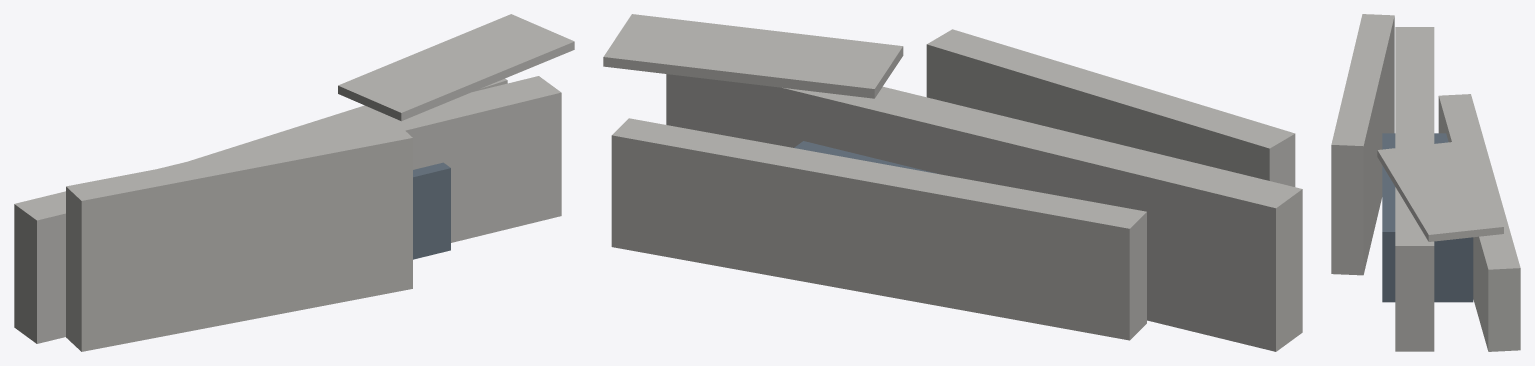
Rendered from landmark-weil-vitra-feuerwehrhaus.e38a4b316d.glb.
3 views of the same model, side by side, from view 1: azimuth 30°, elevation 25°; view 2: azimuth 150°, elevation 25°; view 3: azimuth 270°, elevation 25° (orthographic). The views are drawn at different scales.
Parts seen in each view (by area): view 1: building; view 2: building; view 3: building.
Boxes of the visible parts, x1,y1,x2,y2 form: building: (14,14,574,351); building: (603,14,1302,351); building: (1331,14,1520,351).
Size of the model in its own units: 42.49 by 11.1 by 14.6.
